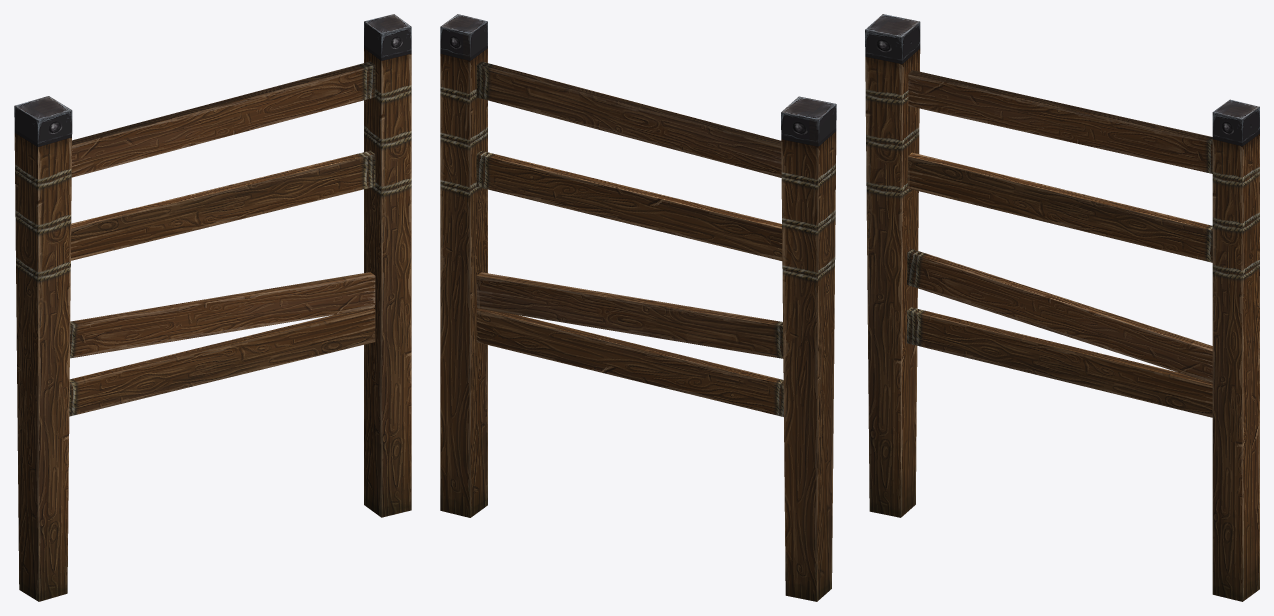
File: Barrier3.fbx
3 renders of one model, left to right at view 1: azimuth 30°, elevation 25°; view 2: azimuth 150°, elevation 25°; view 3: azimuth 330°, elevation 25°, orthographic.
Parts seen in each view (by area): view 1: polySurface559; view 2: polySurface559; view 3: polySurface559.
Part boxes in pixels (x1,y1,x2,y2): polySurface559: [14, 14, 411, 601]; polySurface559: [440, 14, 836, 601]; polySurface559: [865, 14, 1259, 601].
Bounding box in the file's own units: 3.76 × 4.58 × 0.3854.
Materials: 1 (1 with a texture image).
